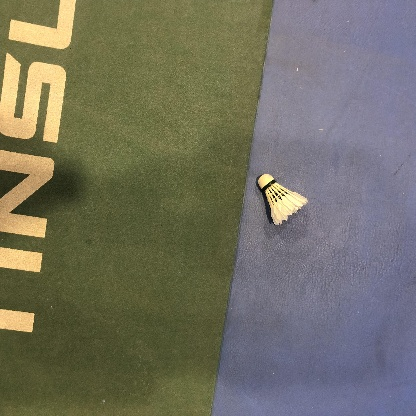ball_single: (258, 174, 308, 225)
